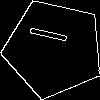I: (28, 23, 78, 47)
